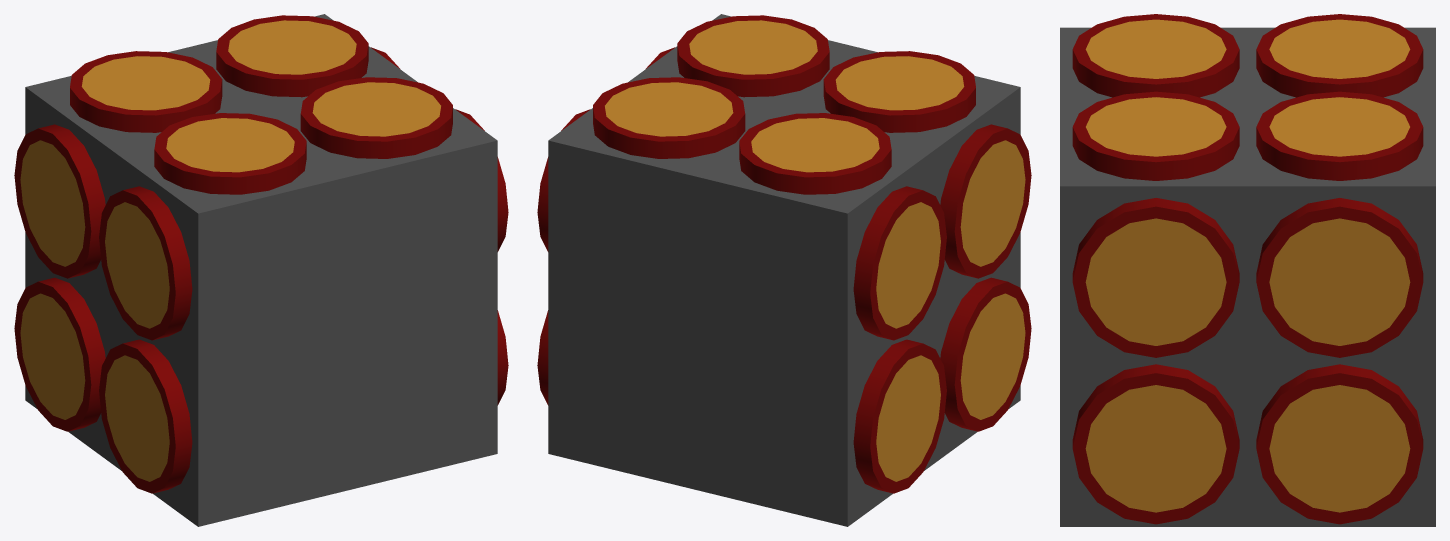
File: WiresT.fbx
The picture shows the model from 3 angles, left to right: view 1: azimuth 30°, elevation 25°; view 2: azimuth 150°, elevation 25°; view 3: azimuth 270°, elevation 25°; orthographic projection. The views are drawn at different scales.
Parts seen in each view (by area): view 1: FrameBox, Cable2.003, Cable1.003, Cable3.003, Cable4.003, Cable1.002, Cable2.001, Cable4.002, Cable3.002, Cable1.004, Cable2.004; view 2: FrameBox, Cable3.003, Cable4.003, Cable2.003, Cable1.003, Cable4.002, Cable3.002, Cable1.002, Cable2.001, Cable4.004, Cable3.004; view 3: FrameBox, Cable2.004, Cable3.004, Cable1.004, Cable4.004, Cable2.001, Cable3.002, Cable1.002, Cable4.002.
Boxes of the visible parts, x1=… form: FrameBox: x1=25, y1=14, x2=497, y2=526; Cable2.003: x1=99, y1=186, x2=192, y2=340; Cable1.003: x1=99, y1=339, x2=192, y2=493; Cable3.003: x1=14, y1=124, x2=105, y2=278; Cable4.003: x1=14, y1=277, x2=105, y2=431; Cable1.002: x1=154, y1=113, x2=306, y2=194; Cable2.001: x1=300, y1=77, x2=452, y2=158; Cable4.002: x1=70, y1=51, x2=222, y2=132; Cable3.002: x1=216, y1=15, x2=368, y2=97; Cable1.004: x1=455, y1=109, x2=508, y2=251; Cable2.004: x1=497, y1=310, x2=508, y2=405; FrameBox: x1=548, y1=14, x2=1020, y2=526; Cable3.003: x1=853, y1=186, x2=946, y2=340; Cable4.003: x1=853, y1=339, x2=946, y2=493; Cable2.003: x1=940, y1=124, x2=1031, y2=278; Cable1.003: x1=940, y1=277, x2=1031, y2=431; Cable4.002: x1=739, y1=113, x2=891, y2=194; Cable3.002: x1=593, y1=77, x2=745, y2=158; Cable1.002: x1=823, y1=51, x2=975, y2=132; Cable2.001: x1=677, y1=15, x2=829, y2=97; Cable4.004: x1=537, y1=109, x2=590, y2=251; Cable3.004: x1=537, y1=310, x2=548, y2=405; FrameBox: x1=1060, y1=27, x2=1435, y2=526; Cable2.004: x1=1072, y1=364, x2=1239, y2=524; Cable3.004: x1=1256, y1=364, x2=1423, y2=524; Cable1.004: x1=1072, y1=198, x2=1239, y2=357; Cable4.004: x1=1256, y1=198, x2=1423, y2=357; Cable2.001: x1=1072, y1=91, x2=1239, y2=180; Cable3.002: x1=1256, y1=91, x2=1423, y2=180; Cable1.002: x1=1072, y1=14, x2=1239, y2=97; Cable4.002: x1=1256, y1=14, x2=1423, y2=97.
Bounding box in the file's own units: 0.5 × 0.475 × 0.45.
